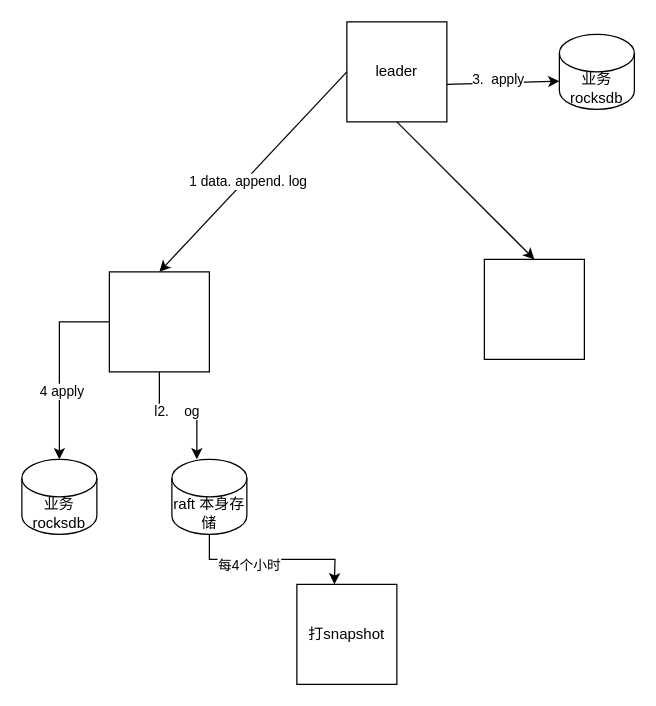
Image size: 656x706. Some labels were removed from this diagram. The shapes that lost their labels are listed below. From the top down, each one's centre as x and y in pixels, then its label:
the point at 158,321: follower
the point at 533,308: 新leader
